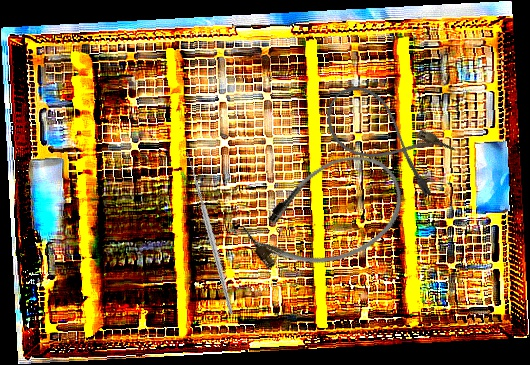Cannula: (231, 138, 420, 294), (313, 75, 460, 202)
Hook Surgical: (140, 150, 272, 315)
